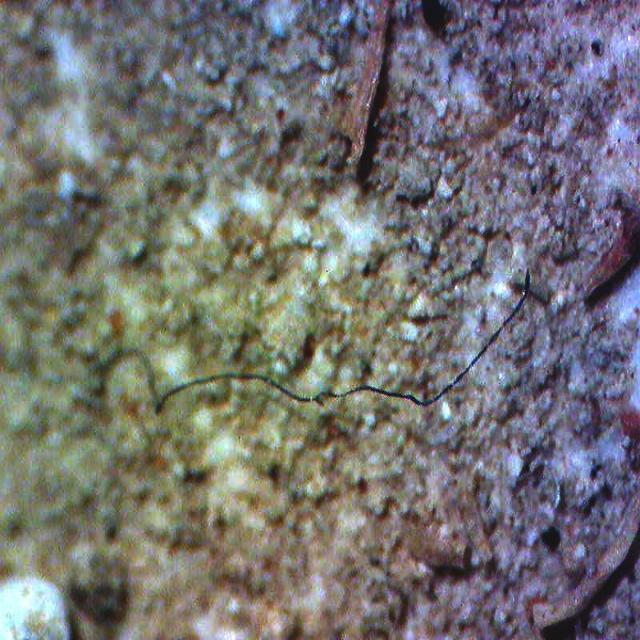microplastic: (101, 268, 531, 417)
